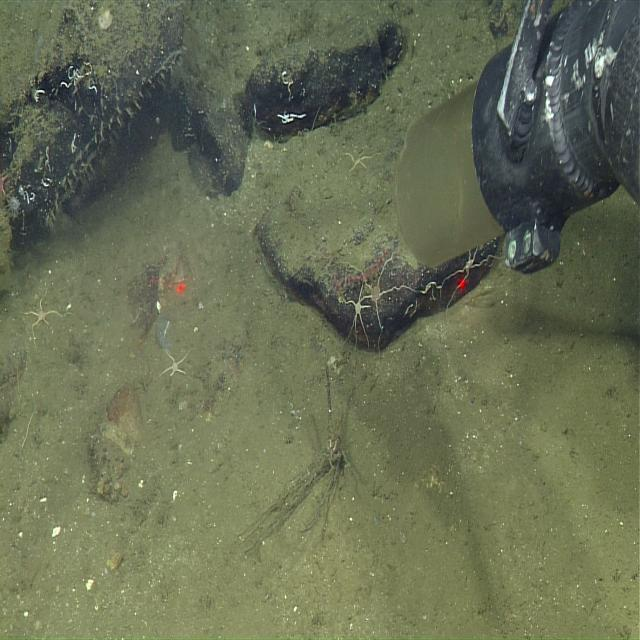Brittle Star: (20, 276, 68, 350), (336, 276, 381, 354), (155, 341, 195, 393), (339, 137, 378, 182)
Not Brittle Star: (390, 4, 640, 318), (5, 192, 23, 220)
